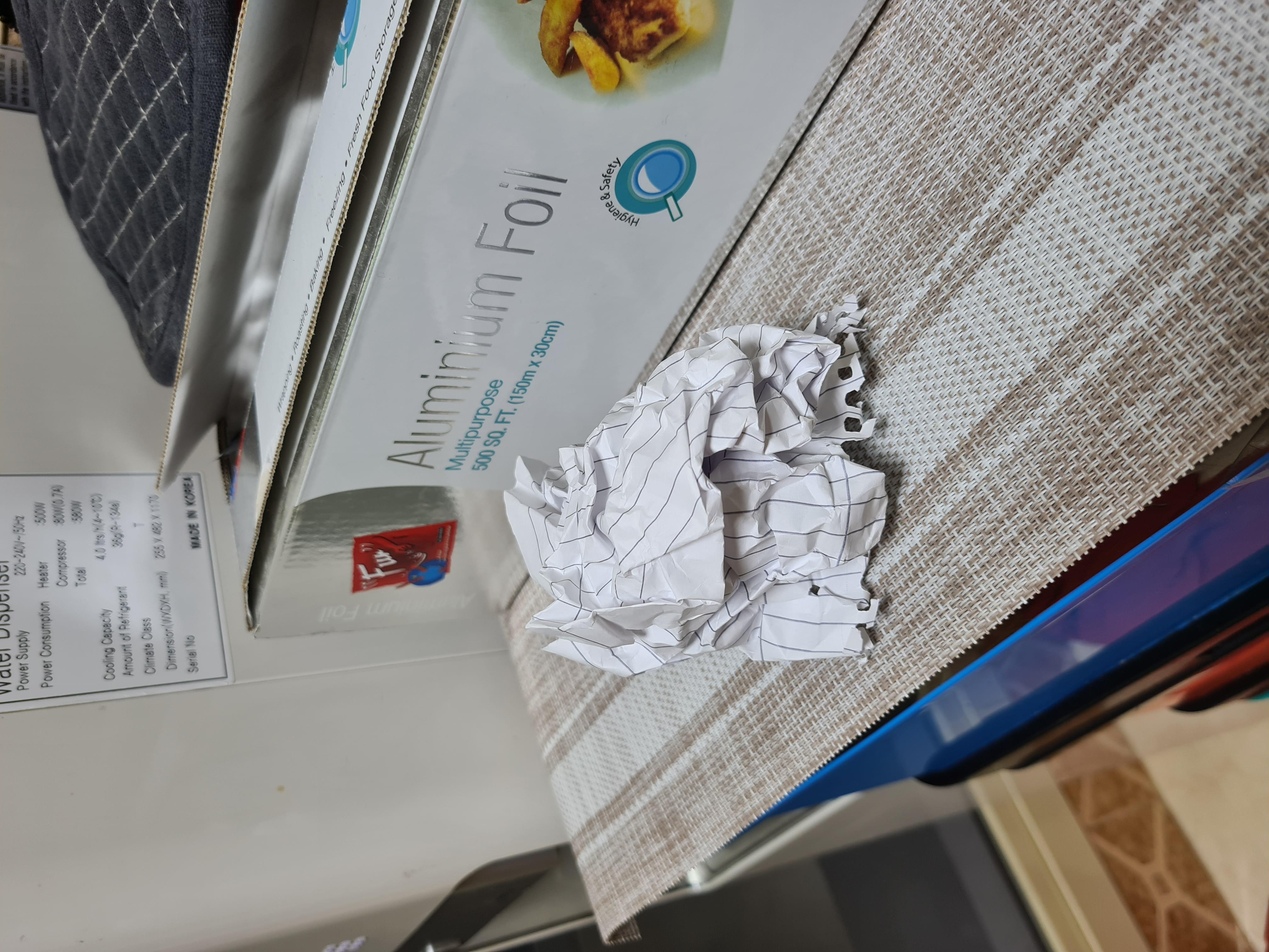paper: (371, 371, 861, 667)
